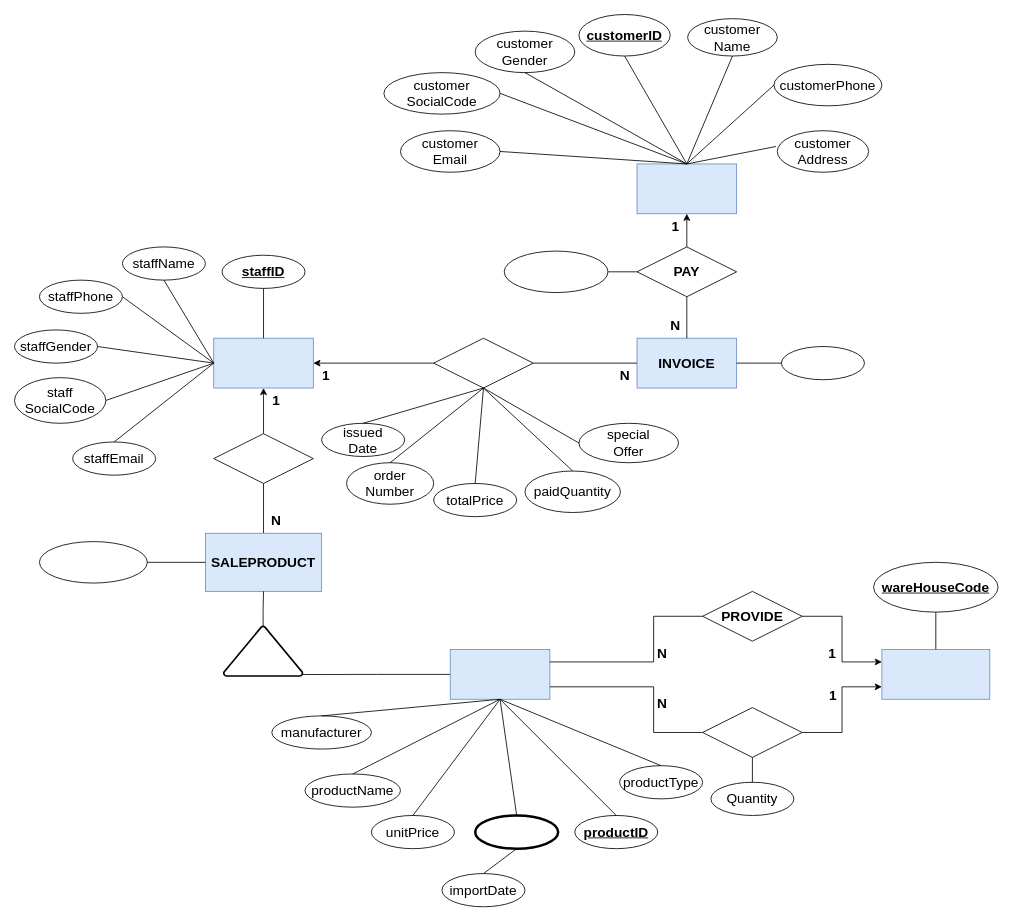
Some shapes in this 1013 by 921 pixel diagram are drawn without their labels. Here are the shapes that lost their labels. From the top down, the box of each, then its label:
(636, 163, 737, 214): CUSTOMER
(503, 250, 608, 293): payment Method
(213, 337, 313, 388): STAFF
(433, 337, 533, 388): ISSUE
(781, 346, 864, 380): invoiceNo
(213, 433, 313, 483): TAKE
(39, 541, 147, 583): saleProductID
(222, 625, 303, 676): ISA
(449, 649, 550, 699): PRODUCT
(881, 649, 990, 699): WAREHOUSE
(702, 707, 802, 757): STORED
(474, 814, 559, 850): batchCode
